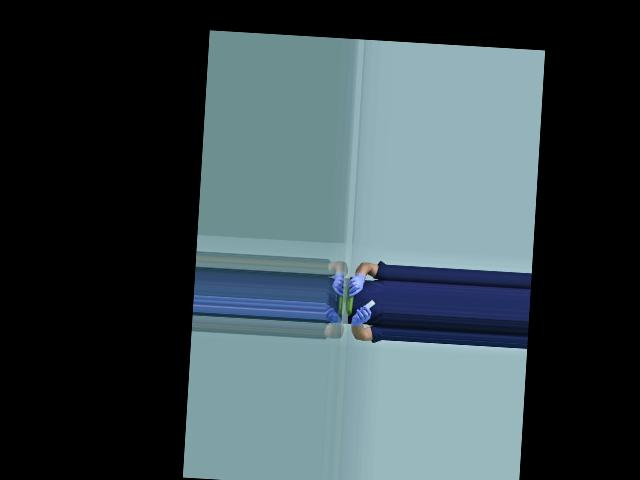cucumber: (345, 288, 353, 315)
